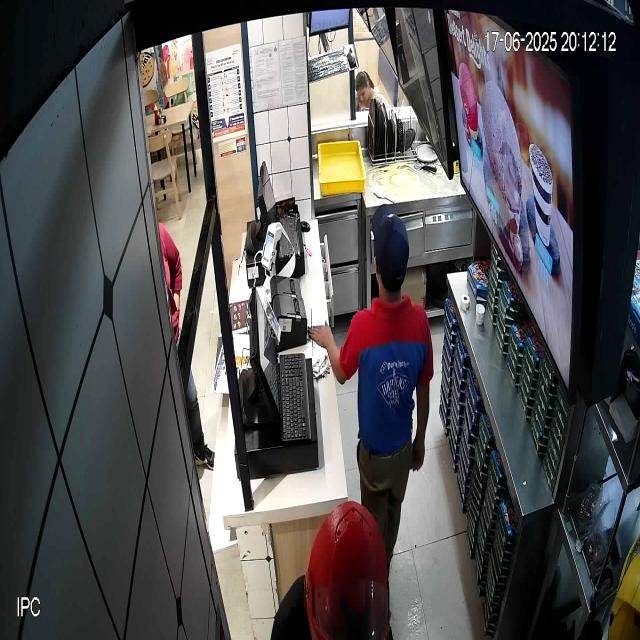helmet: (302, 502, 390, 639)
